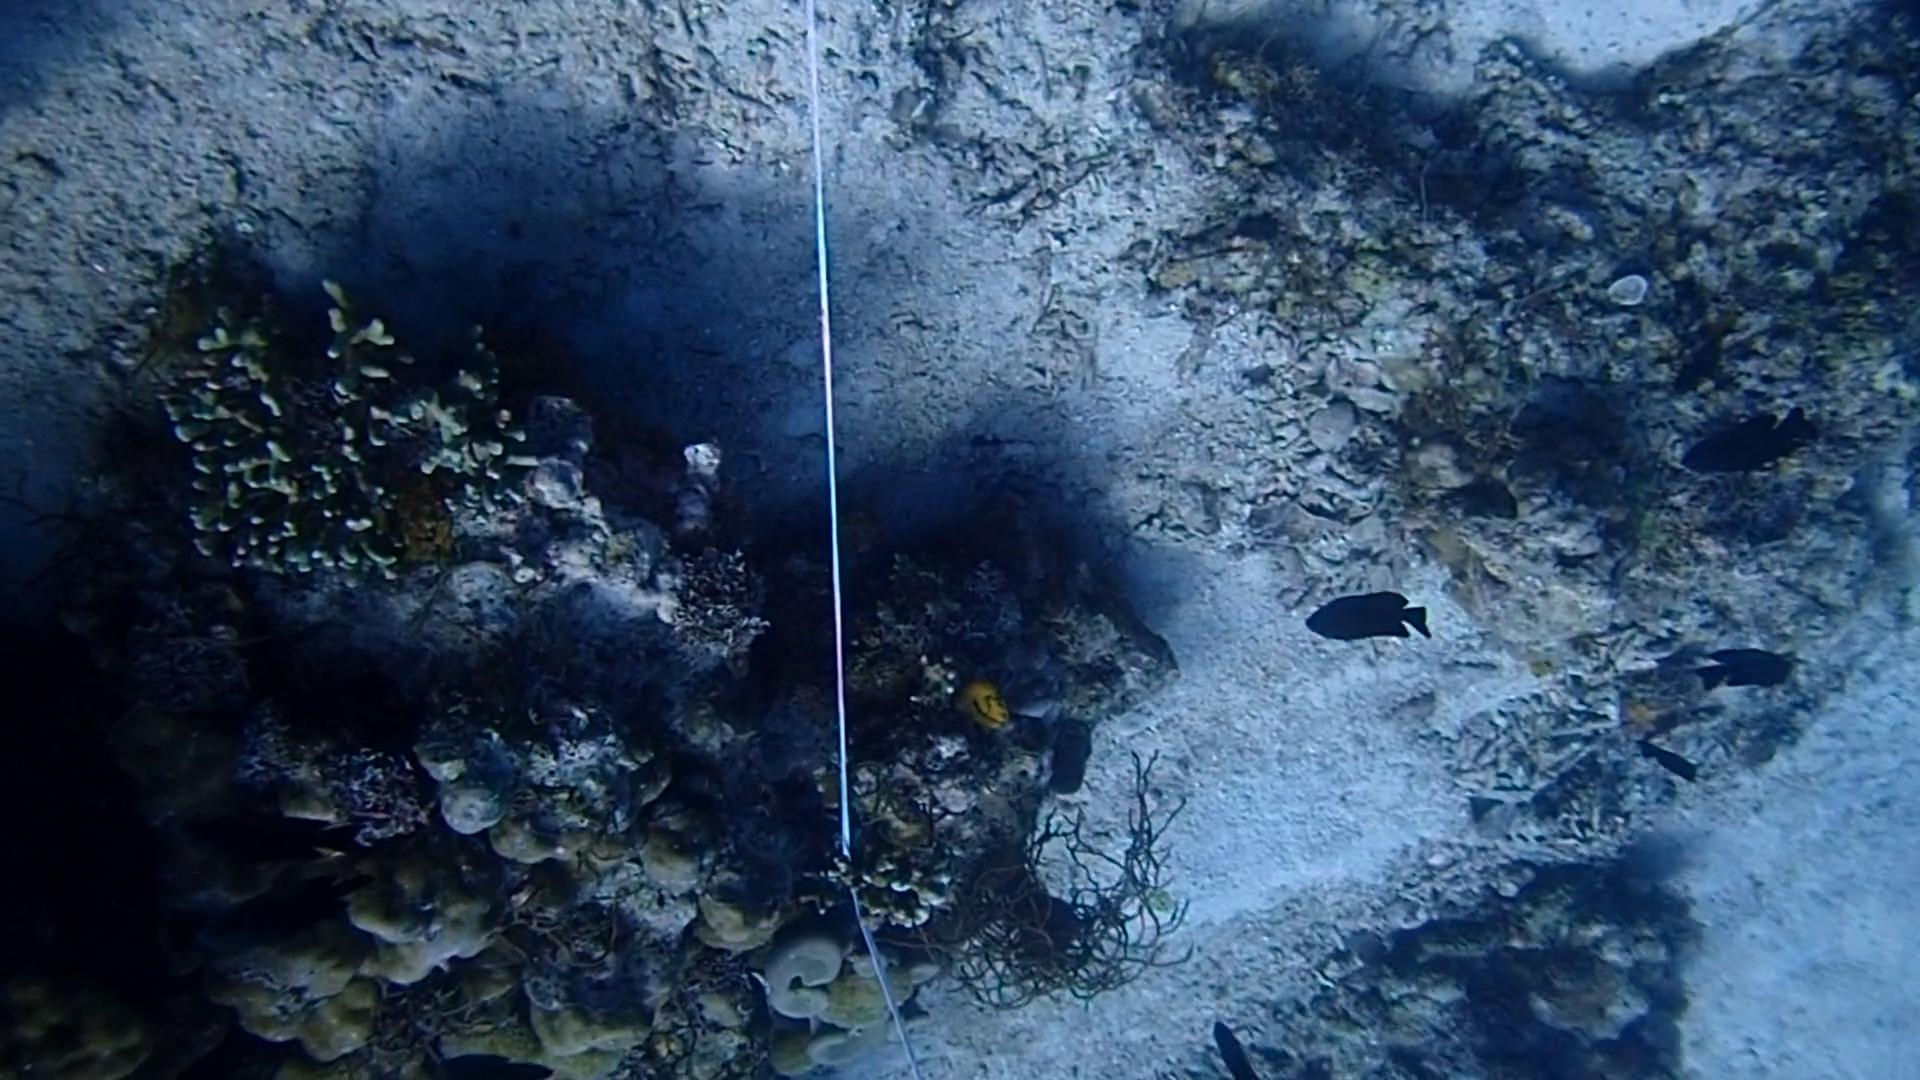Dark Fish: (1671, 409, 1829, 493), (1660, 309, 1751, 419), (1302, 587, 1427, 657), (1683, 641, 1804, 704), (1619, 724, 1717, 796)
